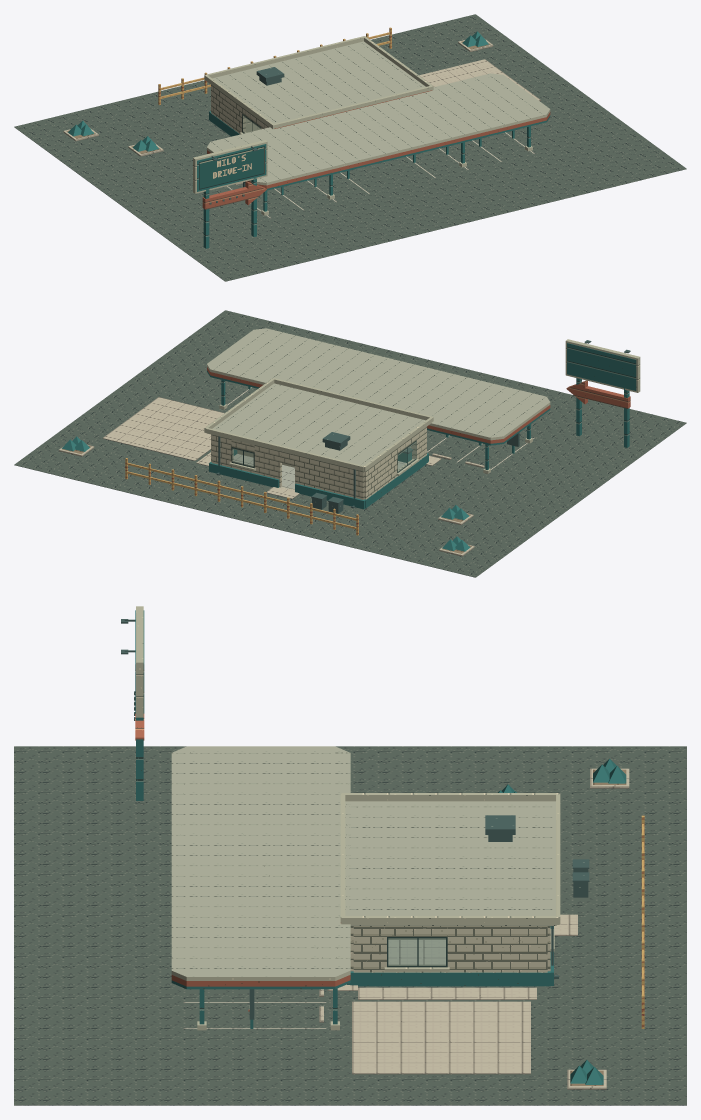
The model's file is carhop-original.glb.
The picture shows the model from 3 angles, top to bottom: view 1: azimuth 30°, elevation 25°; view 2: azimuth 150°, elevation 25°; view 3: azimuth 270°, elevation 25°; orthographic projection. The views are drawn at different scales.
Parts seen in each view (by area): view 1: lot__ground_asphalt, carhop_canopy__roof_membrane, stand__roof_membrane, stand__wall_enamel, sign_name, walks__ground_paving, carhop_canopy__detail_coral, stand__wall_block, carhop_canopy__wall_enamel, roadside_pylon__detail_teal, carhop_canopy__detail_teal, roadside_pylon__detail_coral (+2 smaller); view 2: lot__ground_asphalt, carhop_canopy__roof_membrane, stand__roof_membrane, stand__wall_block, walks__ground_paving, stand__wall_enamel, roadside_pylon__detail_teal, stand__detail_teal, rear_fence__detail_wood, roadside_pylon__detail_coral, stand__glass_windows, carhop_canopy__detail_coral (+5 smaller); view 3: lot__ground_asphalt, carhop_canopy__roof_membrane, stand__roof_membrane, walks__ground_paving, stand__wall_block, stand__wall_enamel, stand__detail_teal, stand__glass_windows, stand__ground_paving, carhop_canopy__detail_teal, carhop_canopy__detail_coral, stand__detail_metal (+4 smaller).
Boxes of the visible parts, x1,y1,x2,y2 form: lot__ground_asphalt: [14, 14, 686, 281]; carhop_canopy__roof_membrane: [207, 73, 549, 182]; stand__roof_membrane: [212, 41, 425, 123]; stand__wall_enamel: [204, 36, 433, 134]; sign_name: [199, 146, 264, 189]; walks__ground_paving: [419, 59, 541, 100]; carhop_canopy__detail_coral: [207, 112, 550, 188]; stand__wall_block: [211, 84, 268, 133]; carhop_canopy__wall_enamel: [207, 109, 550, 215]; roadside_pylon__detail_teal: [197, 144, 266, 248]; carhop_canopy__detail_teal: [207, 115, 550, 211]; roadside_pylon__detail_coral: [202, 181, 266, 209]; lot__ground_asphalt: [14, 310, 686, 577]; carhop_canopy__roof_membrane: [207, 328, 549, 437]; stand__roof_membrane: [207, 384, 425, 471]; stand__wall_block: [211, 427, 426, 499]; walks__ground_paving: [102, 397, 441, 499]; stand__wall_enamel: [204, 378, 433, 475]; roadside_pylon__detail_teal: [567, 343, 636, 447]; stand__detail_teal: [209, 449, 428, 509]; rear_fence__detail_wood: [125, 458, 358, 535]; roadside_pylon__detail_coral: [566, 380, 630, 408]; stand__glass_windows: [231, 440, 416, 472]; carhop_canopy__detail_coral: [207, 367, 550, 443]; lot__ground_asphalt: [14, 746, 686, 1105]; carhop_canopy__roof_membrane: [171, 746, 350, 976]; stand__roof_membrane: [345, 801, 556, 925]; walks__ground_paving: [327, 914, 577, 1074]; stand__wall_block: [350, 926, 550, 972]; stand__wall_enamel: [340, 793, 560, 971]; stand__detail_teal: [347, 926, 553, 986]; stand__glass_windows: [387, 937, 447, 967]; stand__ground_paving: [388, 940, 445, 964]; carhop_canopy__detail_teal: [171, 980, 350, 1024]; carhop_canopy__detail_coral: [171, 975, 350, 986]; stand__detail_metal: [485, 815, 558, 978].
Size of what is drawn, in the model's own units: 43.46 by 8.3 by 34.45.
Materials: 12 (12 with a texture image).
